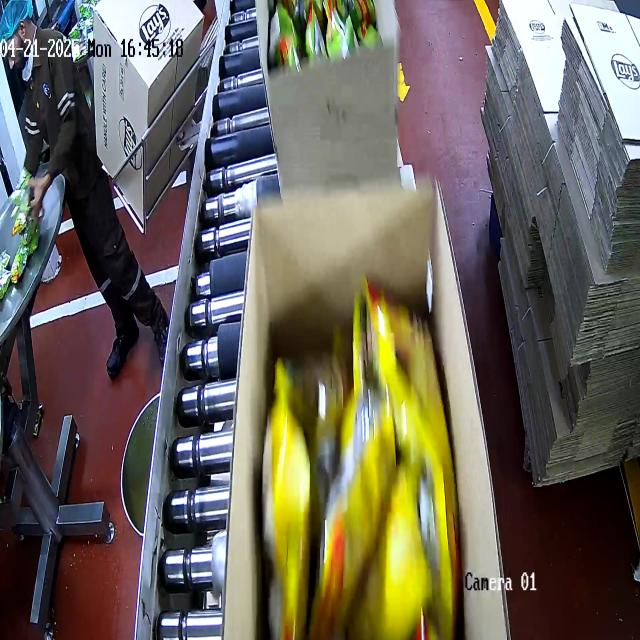SALTED: (259, 289, 462, 640)
